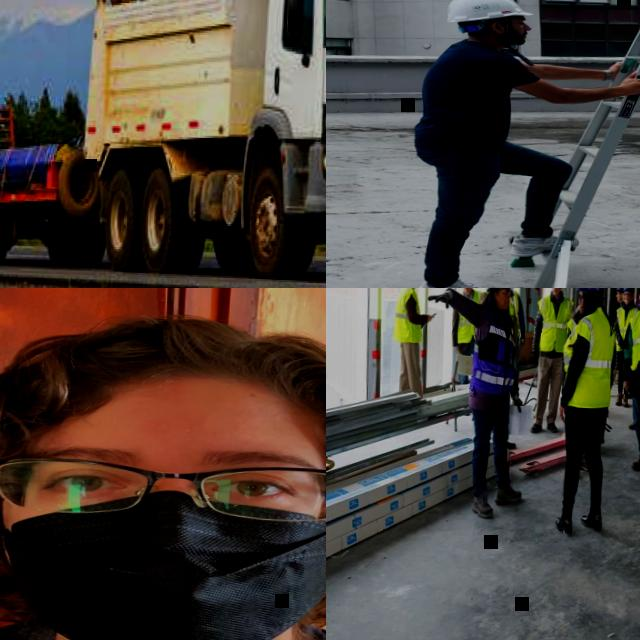Hardhat: (445, 0, 532, 26), (622, 288, 633, 293), (614, 288, 624, 292), (638, 292, 640, 303)
Mask: (0, 490, 326, 640)
NO-Hardhat: (0, 305, 326, 443)
NO-Mask: (507, 24, 531, 46), (497, 297, 510, 309), (552, 288, 561, 296), (580, 301, 585, 314), (464, 288, 472, 294), (624, 297, 631, 303), (617, 296, 622, 302)
NO-Safety Vest: (410, 37, 516, 164)
Person: (0, 303, 326, 640), (399, 0, 640, 288), (418, 288, 532, 518), (553, 288, 620, 538), (527, 288, 575, 433), (391, 288, 437, 398), (618, 288, 640, 480), (611, 288, 640, 409), (448, 288, 484, 384), (500, 288, 530, 384), (475, 288, 524, 345), (610, 288, 630, 395)
Safety Vest: (561, 305, 617, 408), (469, 302, 520, 396), (535, 292, 575, 352), (391, 288, 425, 343), (478, 290, 514, 334), (456, 288, 482, 341), (614, 304, 640, 352), (509, 288, 524, 346), (627, 304, 640, 370), (615, 305, 621, 341), (567, 316, 578, 332)
vehicle: (81, 0, 326, 284)
